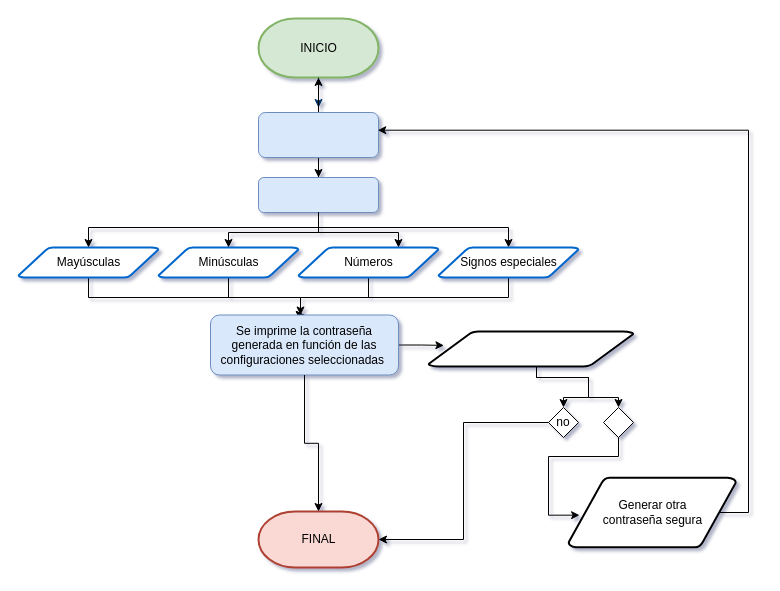
Some shapes in this 780 by 591 pixel diagram are drawn without their labels. Here are the shapes that lost their labels. From the top down, the centre of each, then its label:
At point (318, 135): "Indicar longitud de contraseña mediante un digito > 5".
At point (318, 194): "Seleccionar caracteres a incluir".
At point (530, 348): "Generar otra contraseña".
At point (618, 422): "si".
